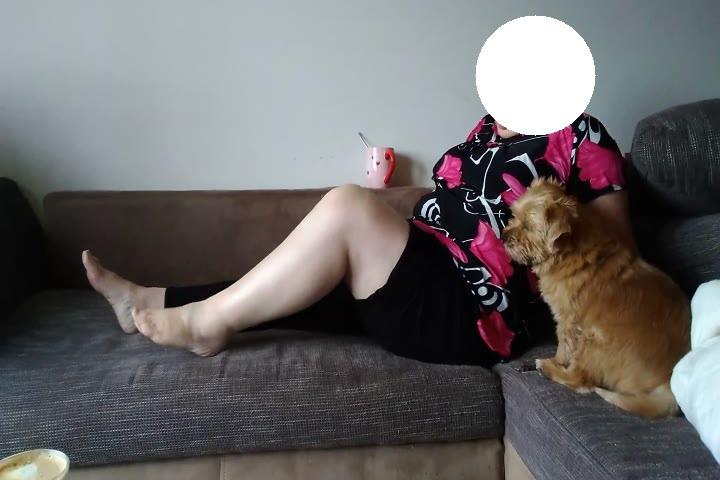lower_body: (80, 178, 510, 374)
